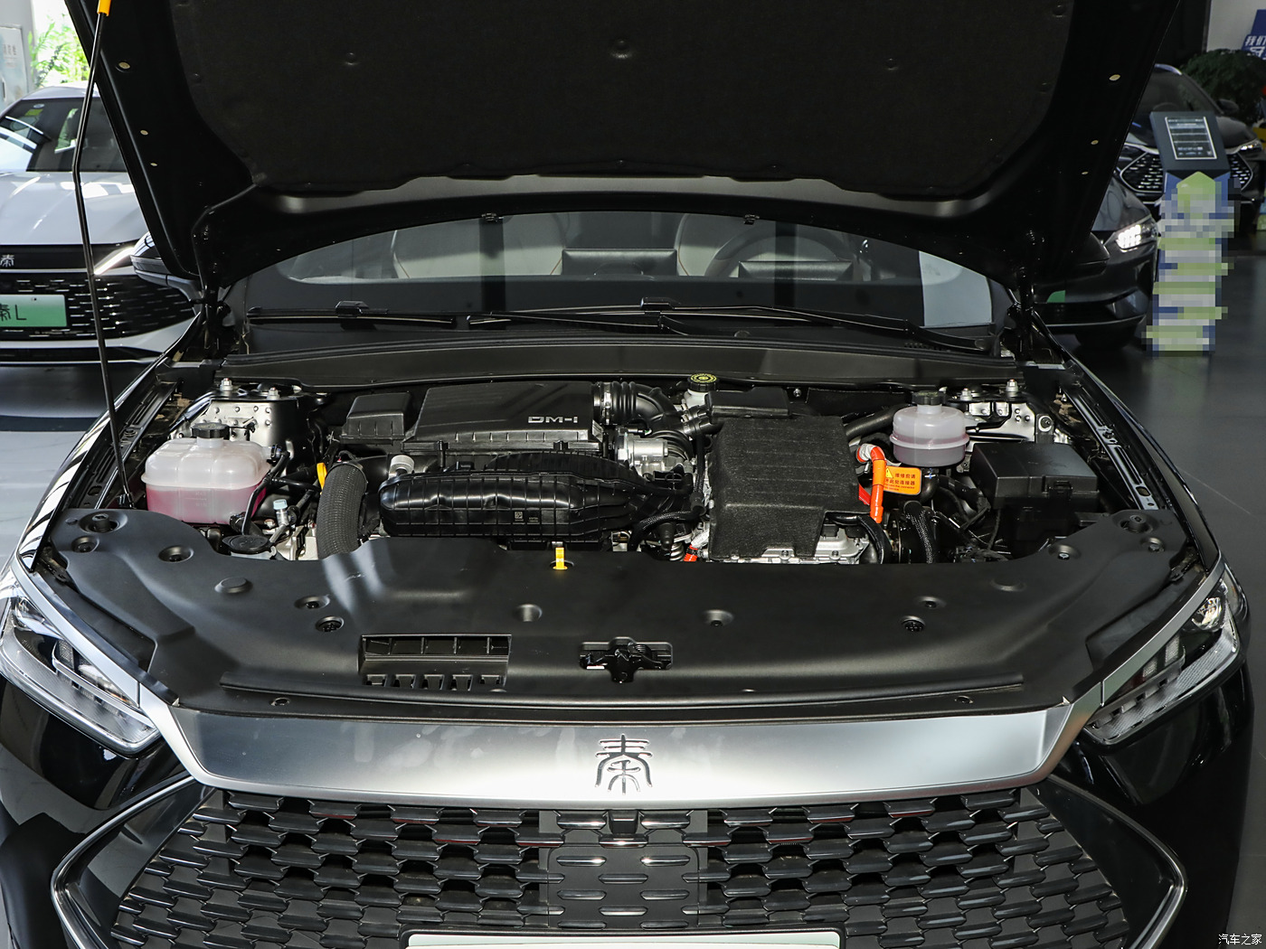BYD Qin: (596, 736, 651, 793)
